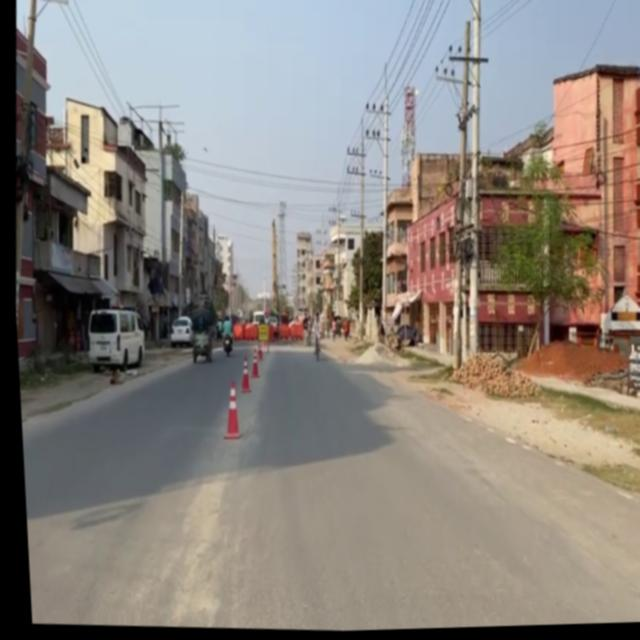Broken-road: (80, 305, 144, 374)
Construction-barrier: (510, 371, 640, 423), (394, 345, 444, 370)
Dog: (442, 349, 537, 405)
Fallen-tree: (186, 329, 210, 364), (217, 330, 231, 358), (308, 333, 319, 362)
Light-pole: (416, 32, 515, 391)
Pothole: (384, 337, 640, 510)
